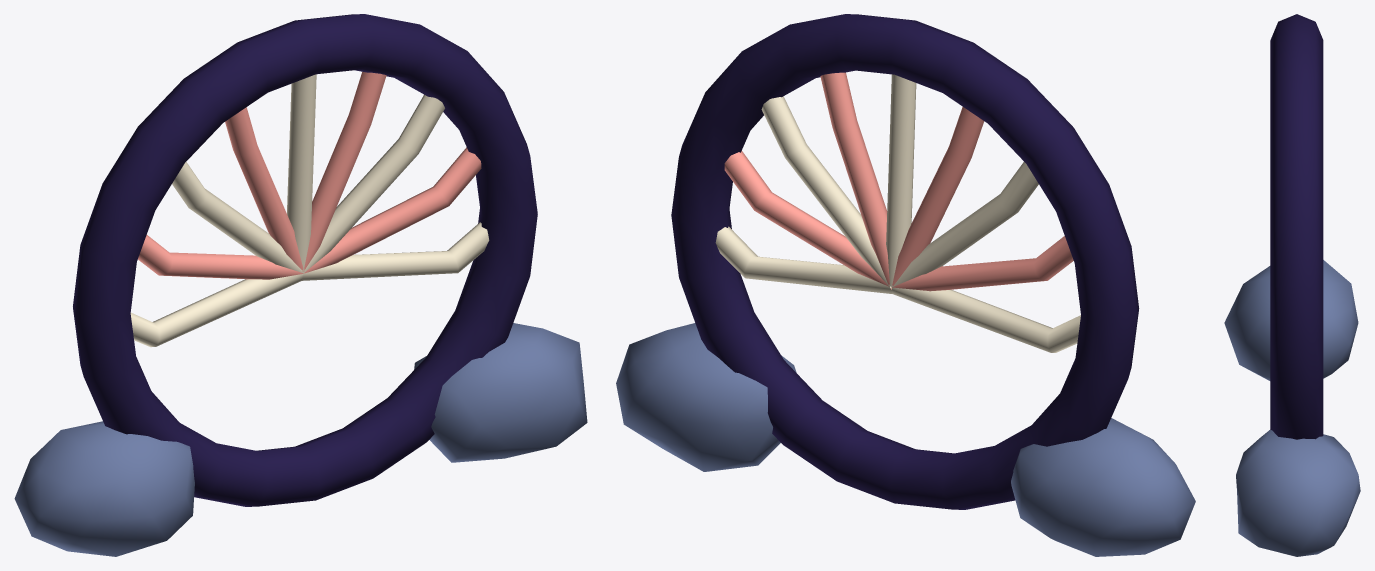
File: r002_reef_portal_presentation_shell_portal.glb
3 renders of one model, left to right at view 1: azimuth 30°, elevation 25°; view 2: azimuth 150°, elevation 25°; view 3: azimuth 270°, elevation 25°, orthographic. The views are drawn at different scales.
Visible parts, largest first — view 1: r002_reef_portal_presentation_shell_portal.001; view 2: r002_reef_portal_presentation_shell_portal.001; view 3: r002_reef_portal_presentation_shell_portal.001.
Part boxes in pixels (box(x1,y1,x2,y2)): r002_reef_portal_presentation_shell_portal.001: box(14, 14, 587, 556); r002_reef_portal_presentation_shell_portal.001: box(616, 14, 1195, 556); r002_reef_portal_presentation_shell_portal.001: box(1224, 14, 1360, 556).
Bounding box in the file's own units: 5.99 × 4.98 × 1.44.
